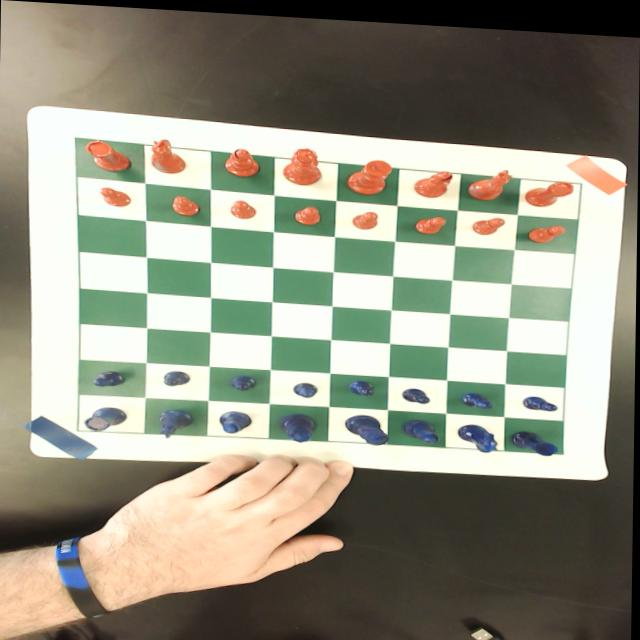B: (403, 414, 439, 439), (219, 408, 253, 431)
K: (345, 409, 390, 441)
N: (157, 407, 195, 439), (458, 418, 499, 447)
P: (347, 374, 377, 394), (93, 369, 125, 387), (462, 386, 494, 403), (523, 390, 559, 405), (229, 371, 258, 389), (402, 382, 432, 399), (163, 368, 191, 385), (292, 378, 319, 395)
Q: (279, 410, 317, 439)
R: (86, 404, 130, 434), (510, 423, 558, 450)
b: (414, 164, 452, 194), (224, 145, 259, 175)
cb: (74, 136, 582, 447)
k: (345, 154, 391, 192)
n: (468, 161, 514, 196), (149, 136, 187, 173)
p: (527, 218, 566, 237), (472, 210, 506, 230), (414, 210, 447, 230), (98, 186, 131, 206), (170, 193, 200, 214), (352, 206, 380, 226), (229, 197, 257, 217), (294, 202, 320, 222)
q: (282, 143, 323, 183)
r: (84, 138, 132, 171), (525, 172, 575, 202)
